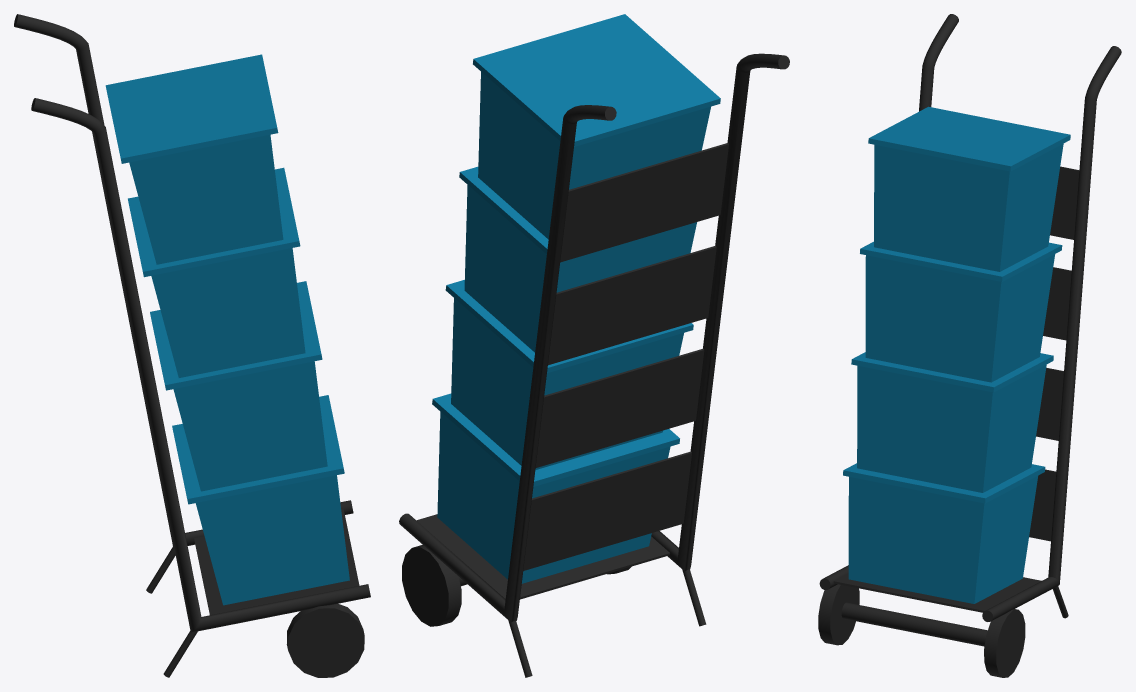
The model's file is Drugs01.FBX.
3 renders of one model, left to right at view 1: azimuth 30°, elevation 25°; view 2: azimuth 150°, elevation 25°; view 3: azimuth 270°, elevation 25°, orthographic. The views are drawn at different scales.
Parts seen in each view (by area): view 1: Box065, Line019, Box062, Box063, Box064; view 2: Line019, Box065, Box062, Box063, Box064; view 3: Box065, Line019, Box062, Box064, Box063.
Boxes of the visible parts, x1,y1,x2,y2 form: Box065: (105, 54, 283, 264); Line019: (14, 14, 370, 677); Box062: (172, 395, 349, 605); Box063: (150, 281, 327, 491); Box064: (128, 167, 305, 377); Line019: (399, 53, 789, 677); Box065: (473, 14, 720, 239); Box062: (432, 393, 679, 583); Box063: (445, 279, 693, 469); Box064: (459, 166, 696, 352); Box065: (868, 106, 1070, 271); Line019: (818, 14, 1121, 677); Box062: (843, 463, 1045, 603); Box064: (860, 241, 1062, 382); Box063: (851, 352, 1053, 492).
Bounding box in the file's own units: 47.65 × 77.65 × 40.49.
